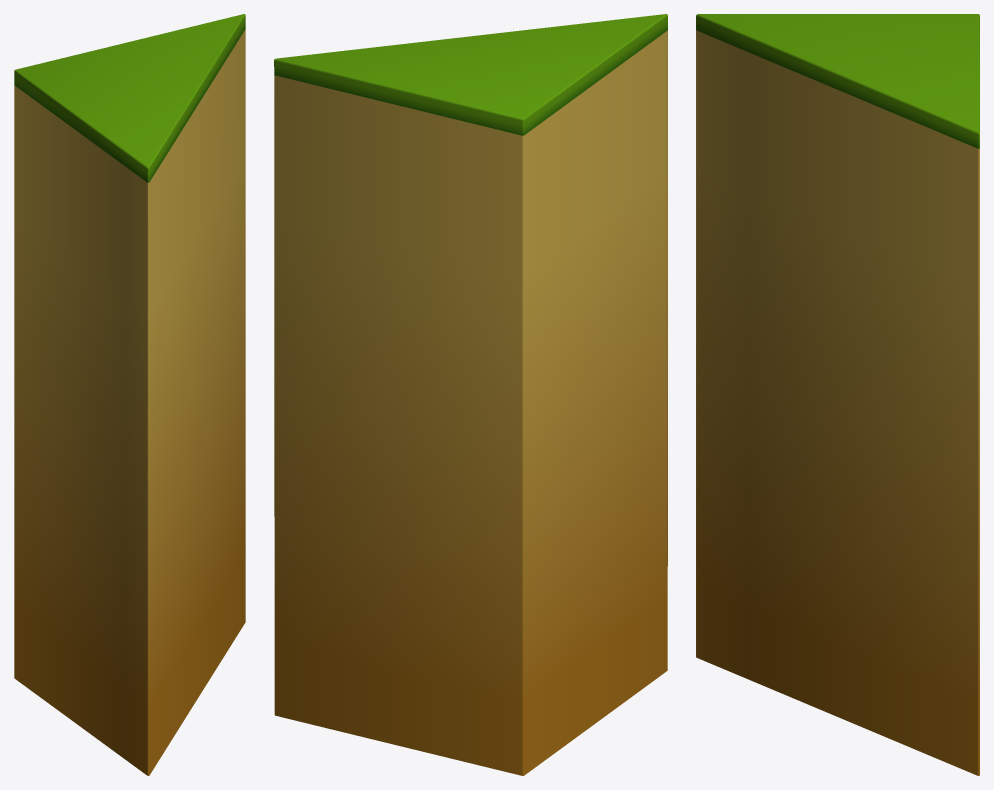
File: LM20TRI.fbx
3 views of the same model, side by side, from view 1: azimuth 30°, elevation 25°; view 2: azimuth 150°, elevation 25°; view 3: azimuth 270°, elevation 25° (orthographic). The views are drawn at different scales.
Parts seen in each view (by area): view 1: LOD0; view 2: LOD0; view 3: LOD0.
Part boxes in pixels (x1=…): LOD0: x1=14, y1=14, x2=245, y2=775; LOD0: x1=274, y1=14, x2=667, y2=775; LOD0: x1=696, y1=14, x2=979, y2=775.
Size of what is drawn, in the model's own units: 1990 by 2000 by 5000.
